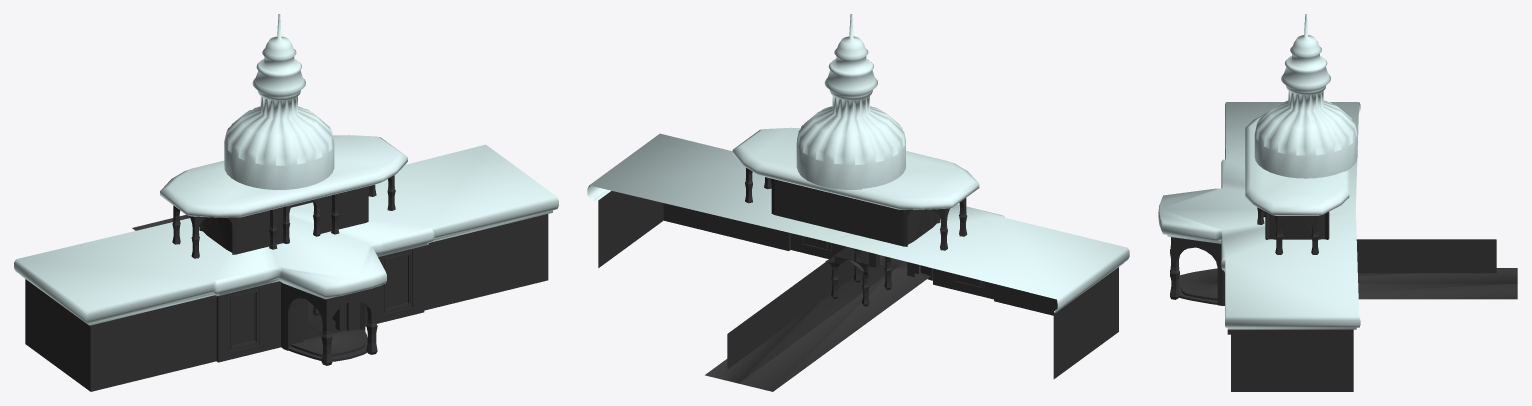
Rendered from Mesh_Ice_Sanctuary2.FBX.
3 renders of one model, left to right at view 1: azimuth 30°, elevation 25°; view 2: azimuth 150°, elevation 25°; view 3: azimuth 270°, elevation 25°, orthographic. The views are drawn at different scales.
Visible parts, largest first — view 1: Mesh_Ice_Sanctuary2; view 2: Mesh_Ice_Sanctuary2; view 3: Mesh_Ice_Sanctuary2.
Part boxes in pixels (x1=…): Mesh_Ice_Sanctuary2: x1=14, y1=14, x2=558, y2=391; Mesh_Ice_Sanctuary2: x1=587, y1=14, x2=1129, y2=391; Mesh_Ice_Sanctuary2: x1=1158, y1=14, x2=1517, y2=391.
Size of what is drawn, in the model's own units: 4572 by 3221 by 2708.
